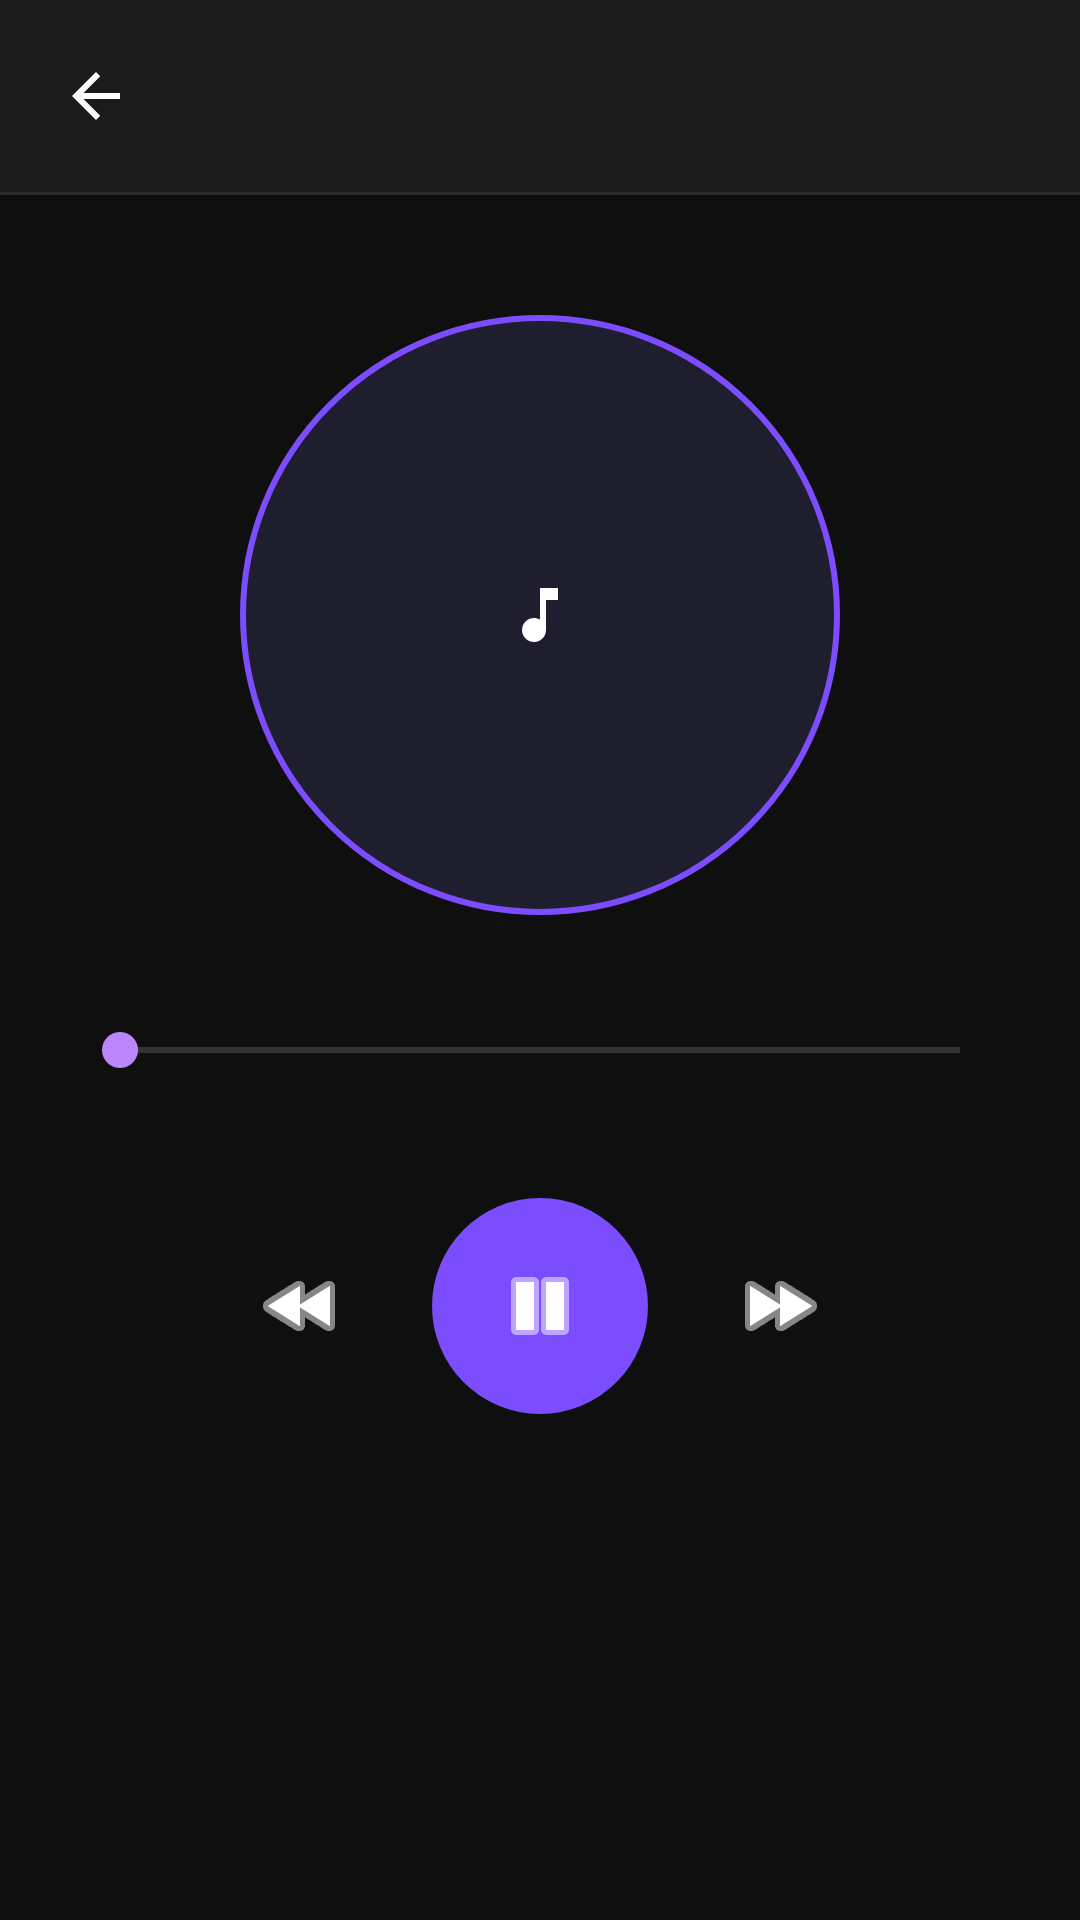

Screen size 1080×1920. Icon name, then its center in pixels as (x=x, y=y):
Back: (x=96, y=96)
Forward 10s: (x=781, y=1306)
Play/Pause: (x=540, y=1306)
Rewind 10s: (x=299, y=1306)
